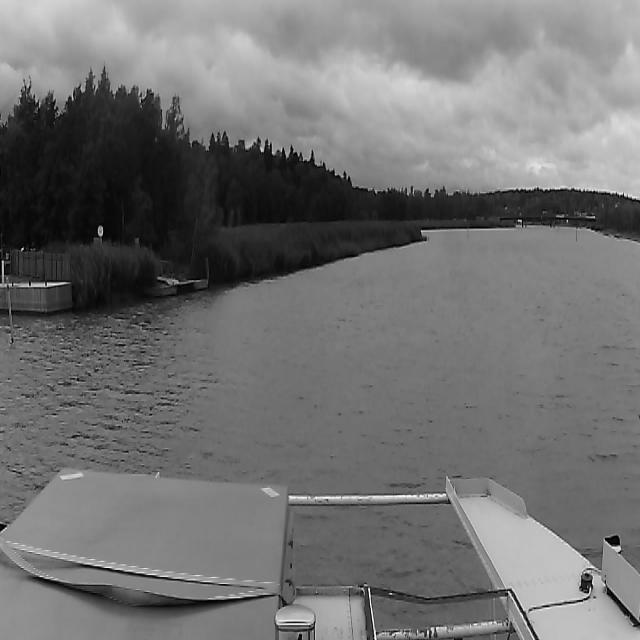buoy: (5, 275, 14, 344), (575, 224, 577, 242)
